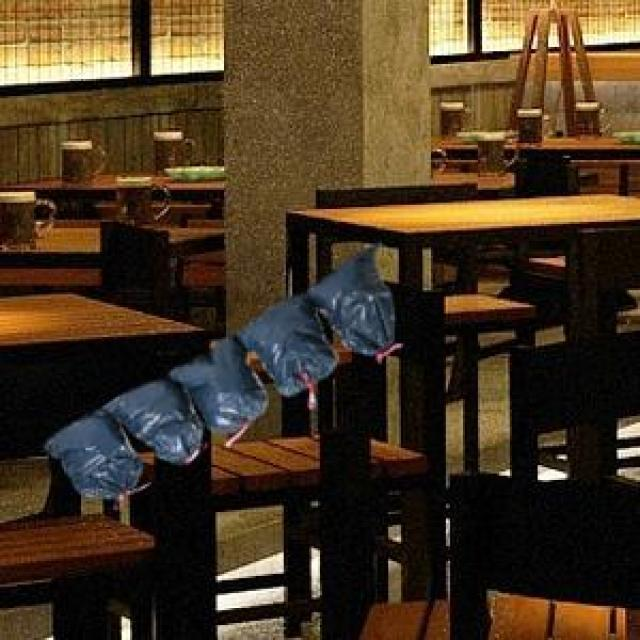waste: (48, 252, 395, 498)
